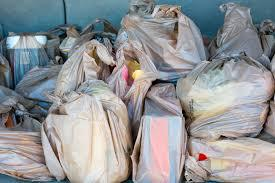Plastic: (45, 79, 135, 182), (179, 53, 274, 140), (132, 81, 189, 182)
